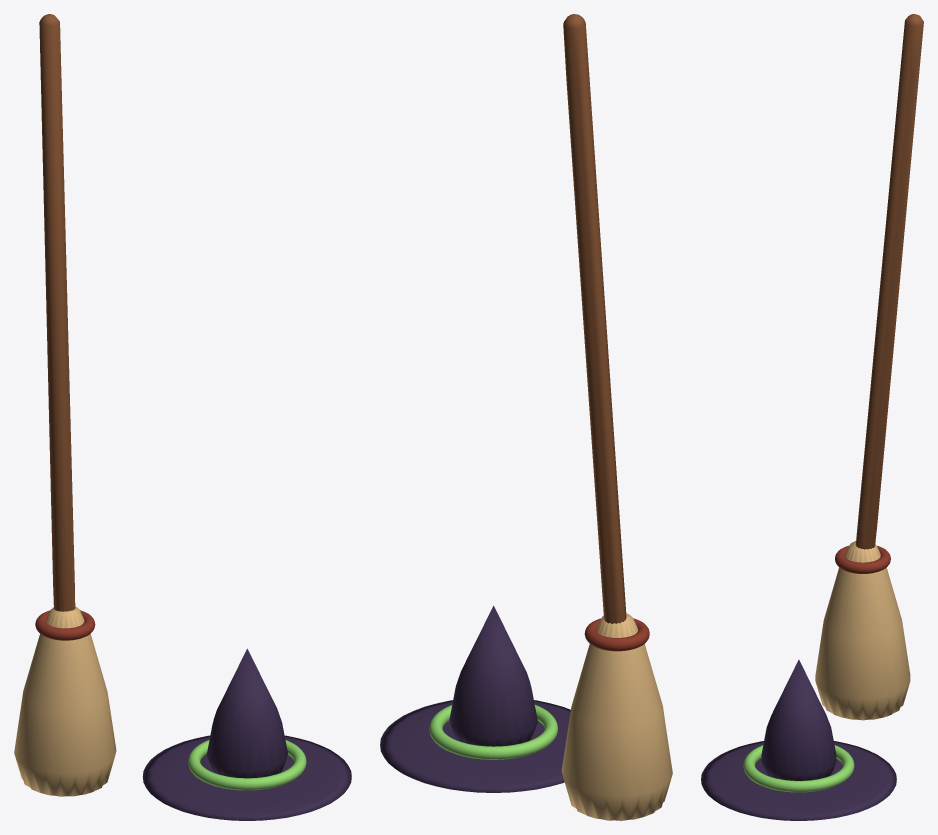
The model's file is deco_escoba.glb.
3 views of the same model, side by side, from view 1: azimuth 30°, elevation 25°; view 2: azimuth 150°, elevation 25°; view 3: azimuth 270°, elevation 25° (orthographic). The views are drawn at different scales.
Visible parts, largest first — view 1: paja escoba.003, palo escoba.001, ala sombrero bruja.001, cono sombrero bruja.001, cinta sombrero.001, amarre escoba.001; view 2: paja escoba.003, palo escoba.001, ala sombrero bruja.001, cono sombrero bruja.001, cinta sombrero.001, amarre escoba.001; view 3: paja escoba.003, palo escoba.001, ala sombrero bruja.001, cono sombrero bruja.001, cinta sombrero.001, amarre escoba.001.
Boxes of the visible parts, x1,y1,x2,y2 form: paja escoba.003: [14, 606, 116, 796]; palo escoba.001: [39, 14, 75, 611]; ala sombrero bruja.001: [142, 735, 351, 820]; cono sombrero bruja.001: [206, 648, 287, 778]; cinta sombrero.001: [188, 740, 306, 790]; amarre escoba.001: [35, 610, 95, 640]; paja escoba.003: [561, 613, 672, 820]; palo escoba.001: [563, 14, 626, 623]; ala sombrero bruja.001: [380, 700, 570, 792]; cono sombrero bruja.001: [449, 605, 537, 746]; cinta sombrero.001: [429, 705, 557, 759]; amarre escoba.001: [584, 618, 649, 651]; paja escoba.003: [815, 541, 910, 720]; palo escoba.001: [855, 14, 923, 549]; ala sombrero bruja.001: [701, 741, 896, 820]; cono sombrero bruja.001: [761, 659, 836, 780]; cinta sombrero.001: [743, 745, 854, 792]; amarre escoba.001: [835, 545, 890, 573].
Bounding box in the file's own units: 0.4772 × 1.22 × 0.3485.
